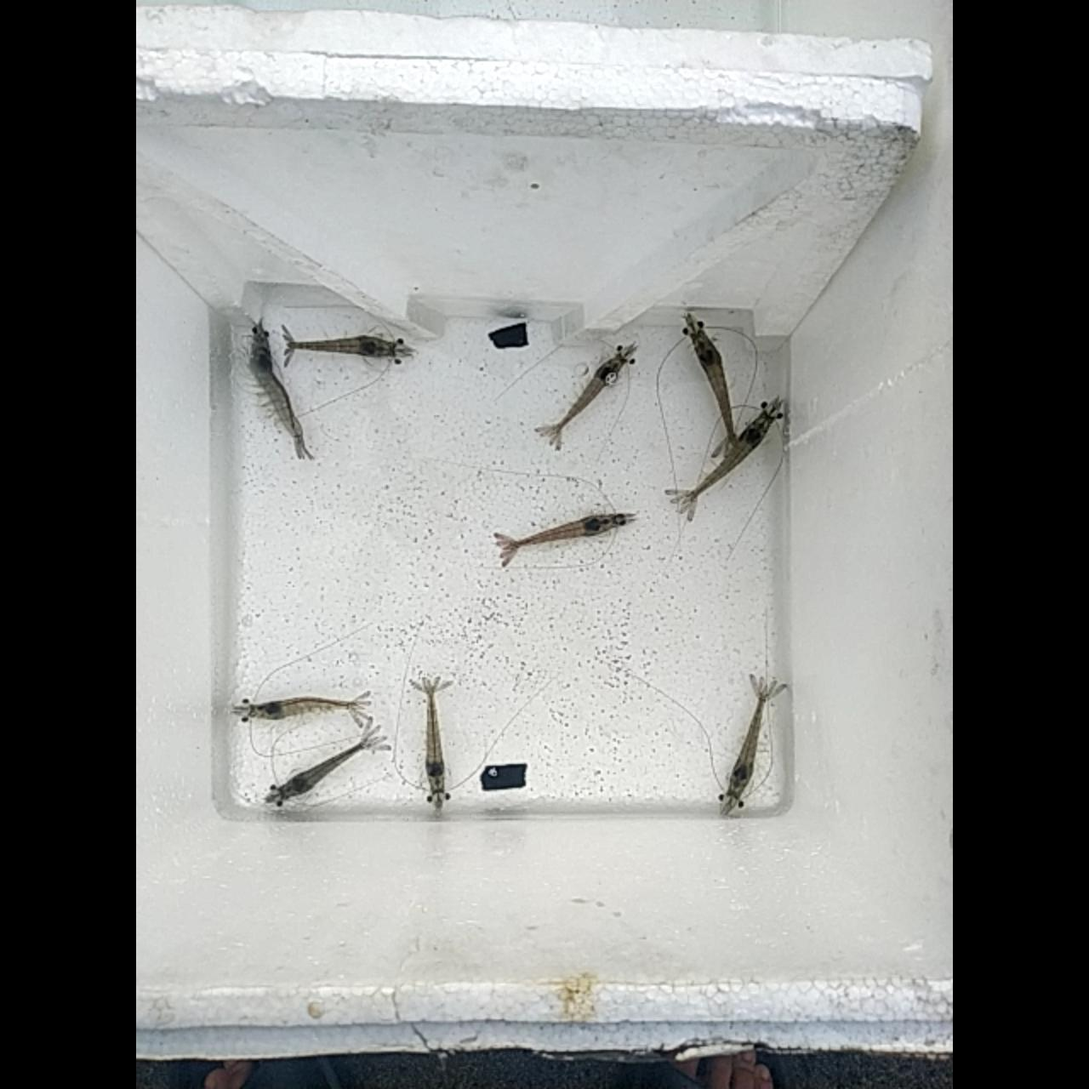box: (483, 764, 526, 788), (492, 325, 527, 345)
top_shrimp: (684, 413, 769, 502), (252, 339, 305, 451), (284, 738, 373, 796), (693, 334, 733, 448), (728, 687, 767, 796), (565, 357, 623, 420), (509, 516, 619, 548), (250, 697, 366, 720), (424, 687, 446, 786), (289, 337, 393, 357)
